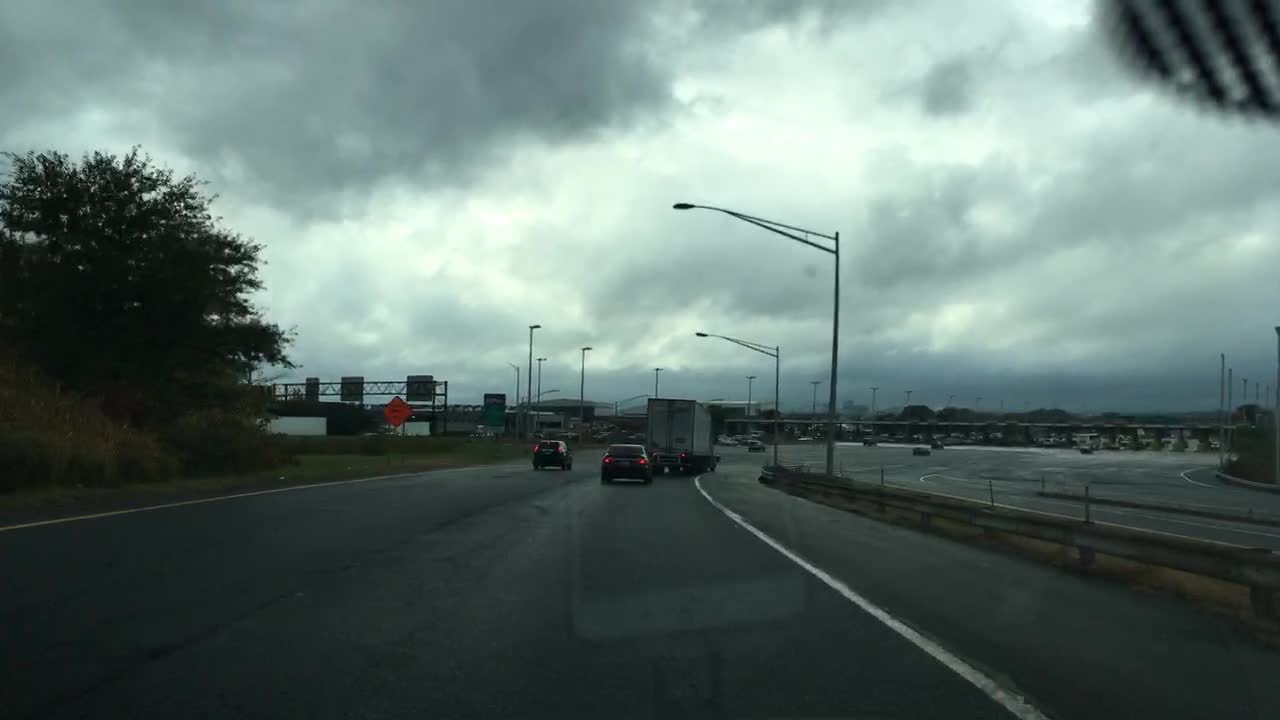bus: (1080, 433, 1101, 449), (751, 428, 765, 439)
car: (601, 443, 650, 484), (531, 439, 574, 471), (624, 432, 643, 445), (718, 434, 738, 445), (747, 440, 766, 451), (591, 430, 612, 439), (887, 430, 904, 440), (863, 437, 878, 446), (930, 440, 945, 449), (1042, 437, 1057, 446), (735, 435, 747, 444), (1117, 437, 1128, 446), (933, 433, 946, 440), (1209, 441, 1222, 448), (969, 432, 980, 440), (988, 433, 1000, 440), (1193, 447, 1205, 453), (913, 434, 925, 438), (949, 433, 961, 437)
traffic sign: (381, 396, 414, 426), (483, 392, 505, 433), (406, 375, 434, 401), (339, 375, 363, 401), (303, 374, 319, 400)
truck: (645, 397, 719, 476)
